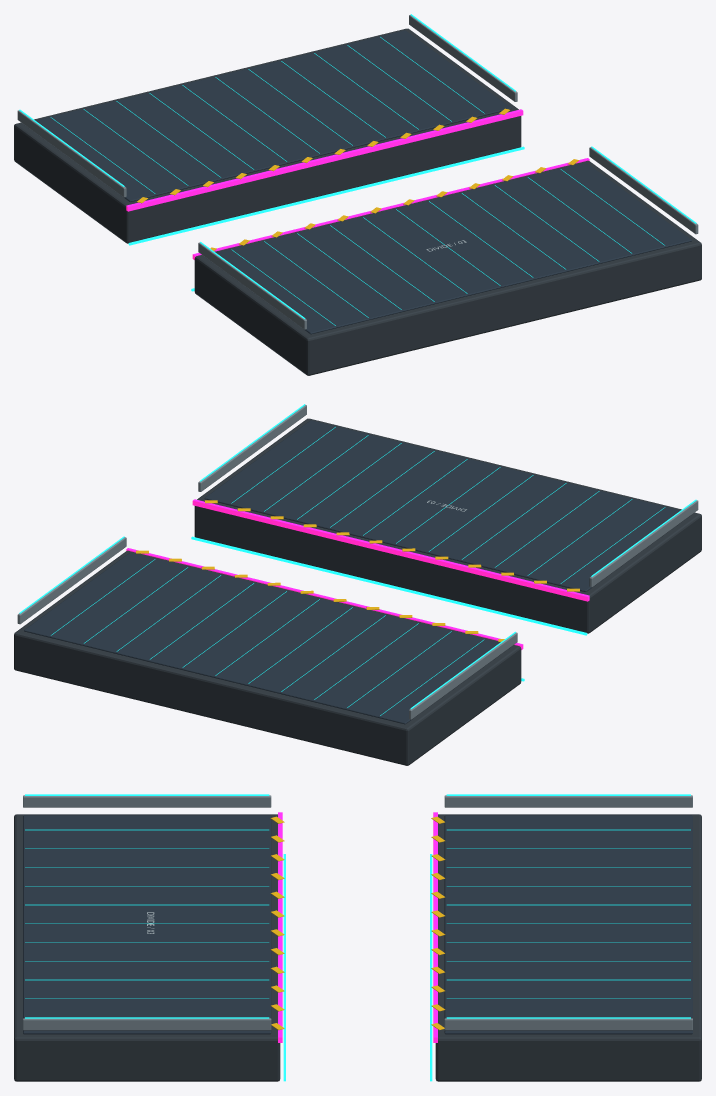
Rendered from training_divider_platform.glb.
The picture shows the model from 3 angles, top to bottom: view 1: azimuth 30°, elevation 25°; view 2: azimuth 150°, elevation 25°; view 3: azimuth 270°, elevation 25°; orthographic projection. The views are drawn at different scales.
Parts seen in each view (by area): view 1: Entry_deck_plate, Landing_deck_plate, Entry_ledge_slab, Landing_ledge_slab, Landing_gap_lip, Landing_gap_understrip, Entry_outer_guard_rail.001, Landing_outer_guard_rail, Entry_outer_guard_rail, Landing_outer_guard_rail.001, Entry_gap_lip; view 2: Landing_deck_plate, Entry_deck_plate, Landing_ledge_slab, Entry_ledge_slab, Entry_gap_lip, Entry_gap_understrip, Landing_outer_guard_rail.001, Entry_outer_guard_rail, Entry_outer_guard_rail.001, Landing_outer_guard_rail, Landing_gap_lip; view 3: Landing_deck_plate, Entry_deck_plate, Landing_ledge_slab, Entry_ledge_slab, Entry_outer_guard_rail.001, Landing_outer_guard_rail.001, Entry_outer_guard_rail, Landing_outer_guard_rail, Entry_gap_lip, Landing_gap_lip, Entry_gap_understrip, Landing_gap_understrip (+10 smaller).
Part boxes in pixels (x1=…): Entry_deck_plate: x1=205, y1=162, x2=691, y2=334; Landing_deck_plate: x1=26, y1=30, x2=511, y2=201; Entry_ledge_slab: x1=194, y1=160, x2=701, y2=375; Landing_ledge_slab: x1=14, y1=28, x2=521, y2=243; Landing_gap_lip: x1=126, y1=109, x2=523, y2=211; Landing_gap_understrip: x1=128, y1=146, x2=524, y2=245; Entry_outer_guard_rail.001: x1=589, y1=147, x2=698, y2=234; Landing_outer_guard_rail: x1=17, y1=110, x2=126, y2=197; Entry_outer_guard_rail: x1=198, y1=242, x2=306, y2=329; Landing_outer_guard_rail.001: x1=409, y1=15, x2=517, y2=101; Entry_gap_lip: x1=192, y1=158, x2=589, y2=259; Landing_deck_plate: x1=24, y1=552, x2=510, y2=724; Entry_deck_plate: x1=204, y1=420, x2=689, y2=591; Landing_ledge_slab: x1=14, y1=550, x2=521, y2=765; Entry_ledge_slab: x1=194, y1=418, x2=701, y2=633; Entry_gap_lip: x1=192, y1=499, x2=589, y2=601; Entry_gap_understrip: x1=191, y1=536, x2=587, y2=635; Landing_outer_guard_rail.001: x1=17, y1=537, x2=126, y2=624; Entry_outer_guard_rail: x1=589, y1=500, x2=698, y2=587; Entry_outer_guard_rail.001: x1=198, y1=405, x2=306, y2=491; Landing_outer_guard_rail: x1=409, y1=632, x2=517, y2=719; Landing_gap_lip: x1=126, y1=548, x2=523, y2=649; Landing_deck_plate: x1=444, y1=815, x2=692, y2=1034; Entry_deck_plate: x1=23, y1=815, x2=271, y2=1034; Landing_ledge_slab: x1=435, y1=814, x2=701, y2=1081; Entry_ledge_slab: x1=14, y1=814, x2=280, y2=1081; Entry_outer_guard_rail.001: x1=23, y1=1018, x2=271, y2=1030; Landing_outer_guard_rail.001: x1=444, y1=1018, x2=692, y2=1030; Entry_outer_guard_rail: x1=23, y1=795, x2=271, y2=807; Landing_outer_guard_rail: x1=444, y1=795, x2=692, y2=807; Entry_gap_lip: x1=278, y1=812, x2=282, y2=1042; Landing_gap_lip: x1=433, y1=812, x2=437, y2=1042; Entry_gap_understrip: x1=283, y1=854, x2=285, y2=1081; Landing_gap_understrip: x1=430, y1=854, x2=432, y2=1081.
Bounding box in the file's own units: 12 × 1.6 × 15.5.
